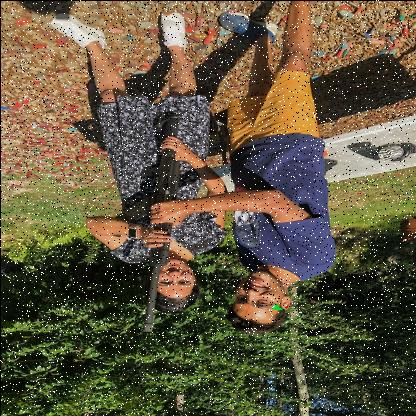rifle: (109, 114, 182, 332)
